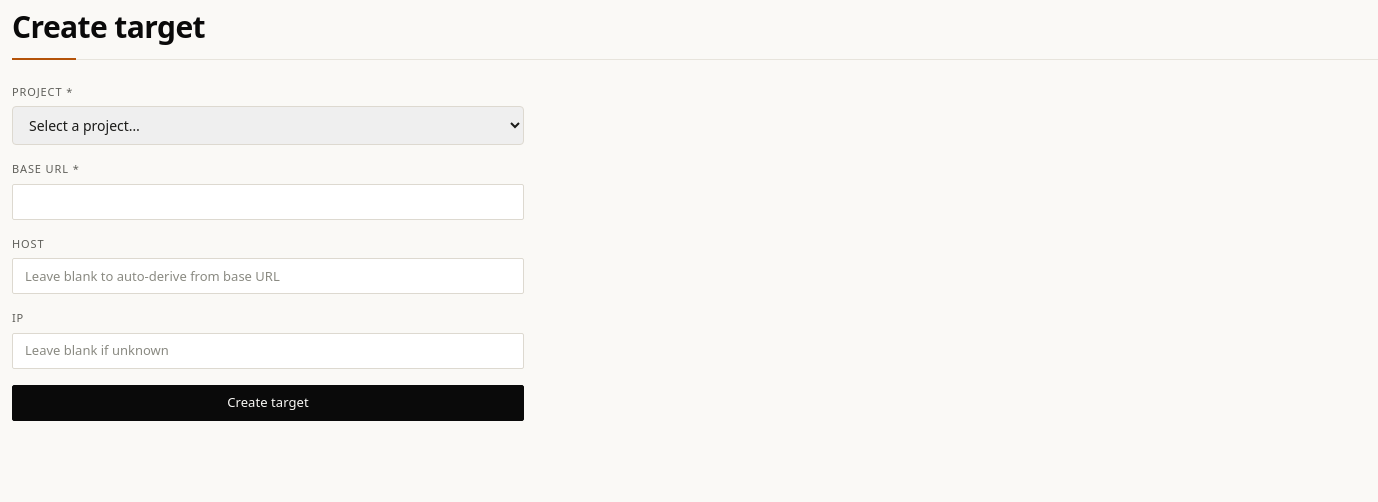
Scenario: CreateTarget — server errors › renders a detail message on a non-400 4xx
Select "Local Lab" in the dropdown labelled "Project *" at (268, 126), box [12,106,524,145]
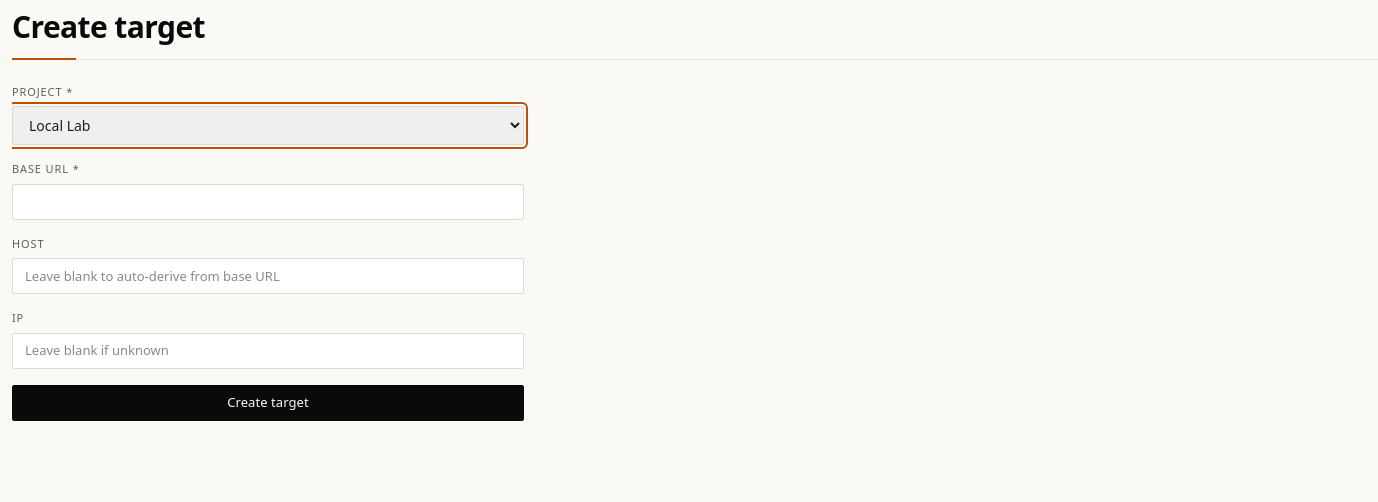
Type "https://dvwa.cocode.dk" into the field labelled "Base URL *" at (268, 202), box [12,184,524,220]
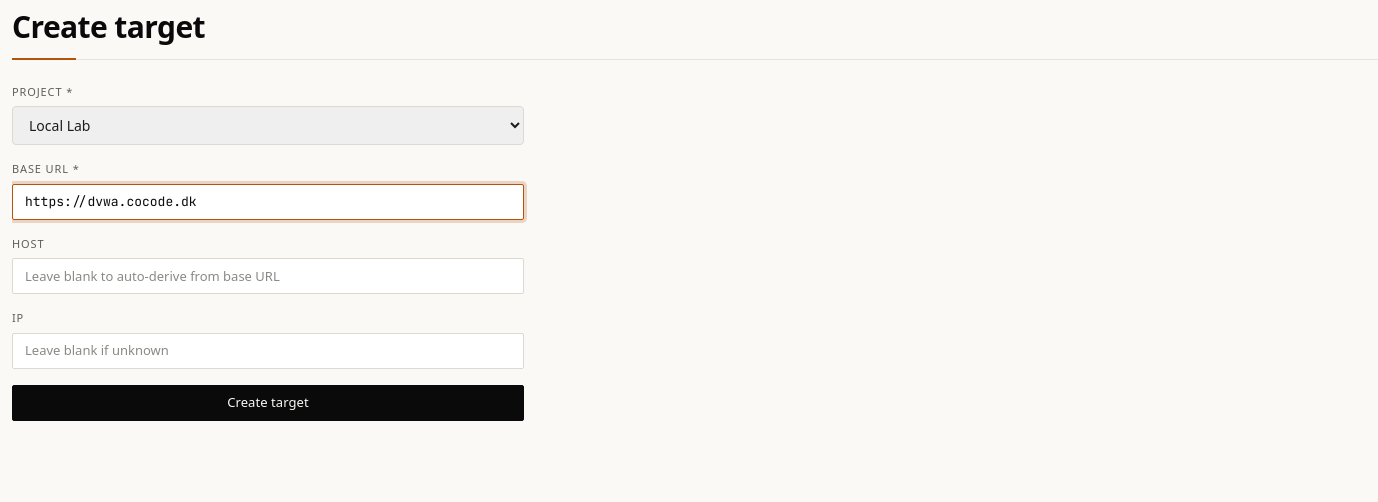
Click the button "Create target" at (268, 402), box [12,384,524,420]
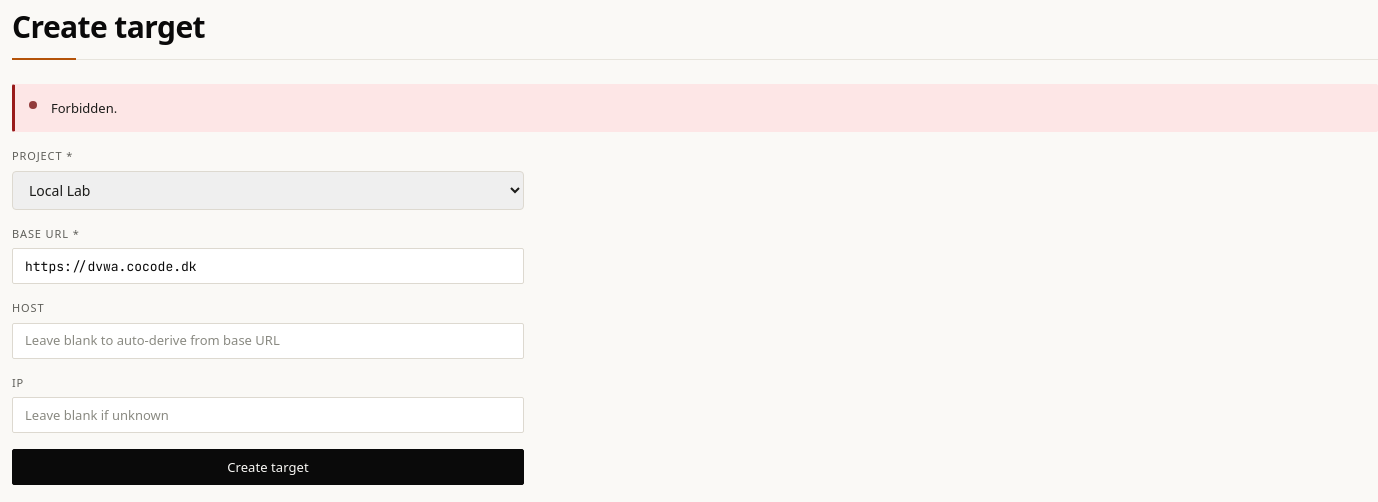
expect the text "Forbidden." is shown: met, box [51,98,117,116]
